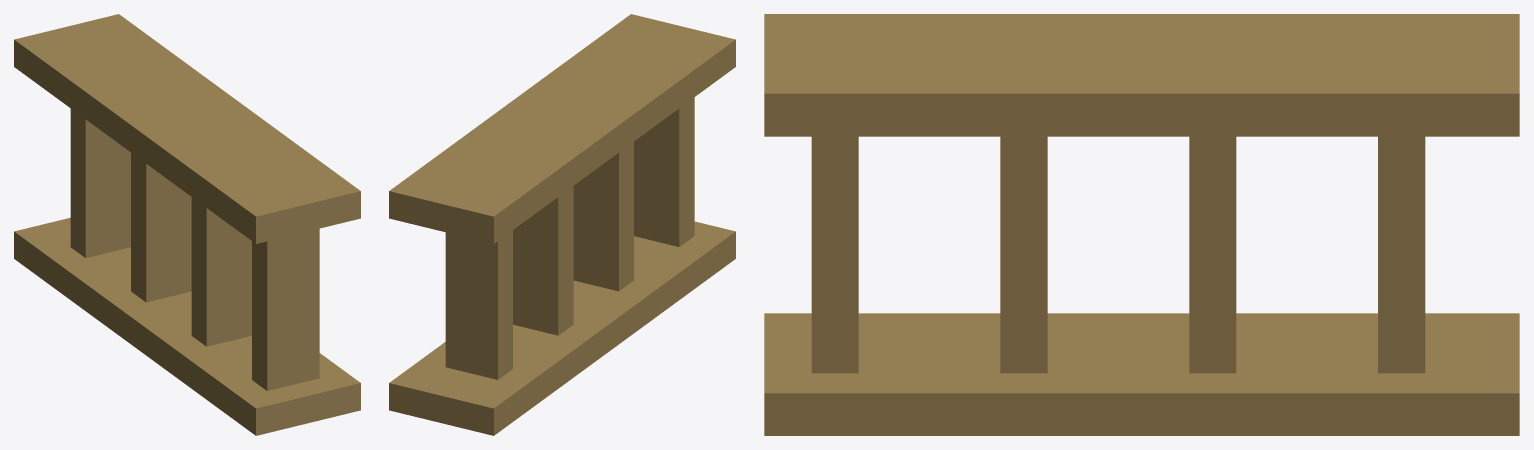
The model's file is Fence.obj.
3 views of the same model, side by side, from view 1: azimuth 30°, elevation 25°; view 2: azimuth 150°, elevation 25°; view 3: azimuth 270°, elevation 25° (orthographic). The views are drawn at different scales.
Parts seen in each view (by area): view 1: pCube14; view 2: pCube14; view 3: pCube14.
Part boxes in pixels (bbox=[...]): pCube14: bbox=[14, 14, 360, 435]; pCube14: bbox=[389, 14, 735, 435]; pCube14: bbox=[764, 14, 1519, 435].
Bounding box in the file's own units: 2 × 4 × 8.
Materials: 1 (1 with a texture image).
